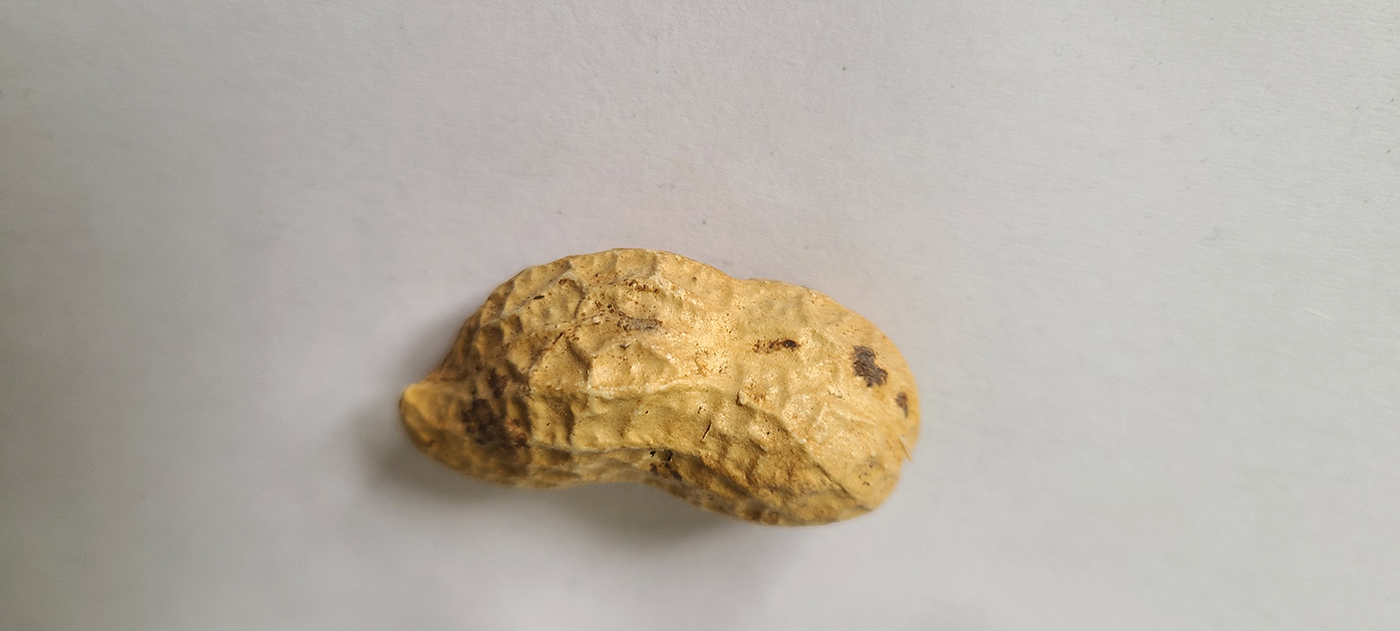h: (397, 245, 921, 528)
